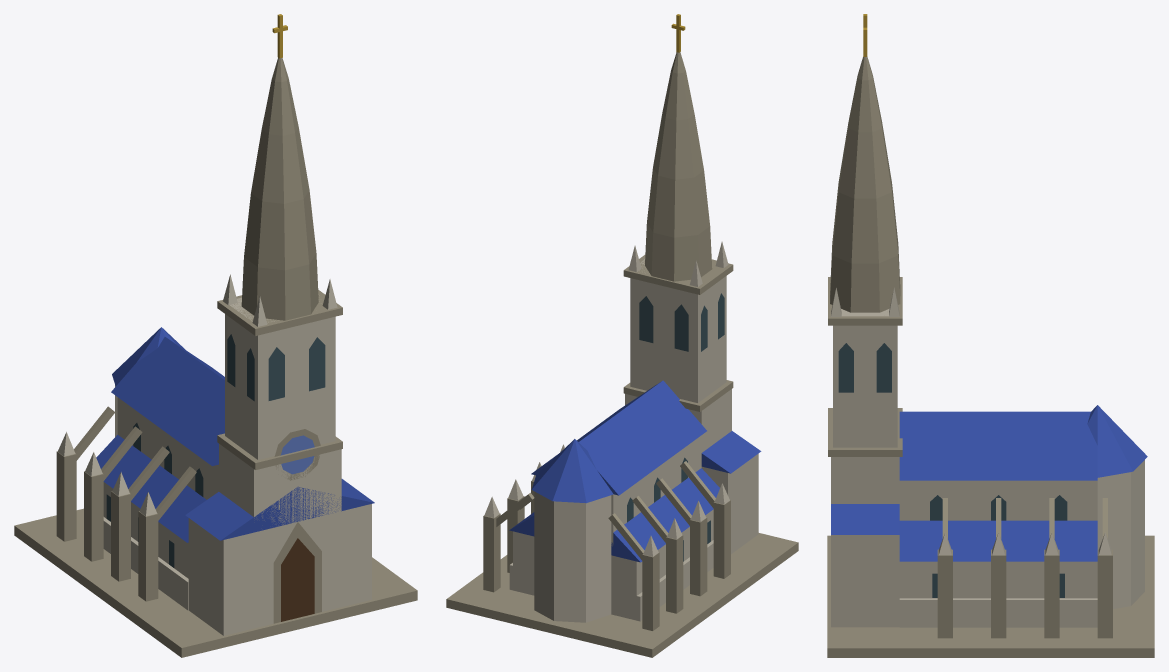
The model's file is cathedrale.glb.
3 renders of one model, left to right at view 1: azimuth 30°, elevation 25°; view 2: azimuth 150°, elevation 25°; view 3: azimuth 270°, elevation 25°, orthographic. The views are drawn at different scales.
Visible parts, largest first — view 1: cathedrale; view 2: cathedrale; view 3: cathedrale.
Boxes of the visible parts, x1,y1,x2,y2 form: cathedrale: (14,14,417,657); cathedrale: (446,14,798,657); cathedrale: (827,14,1154,657).
Size of the model in its own units: 3.5 by 8.5 by 4.3.
